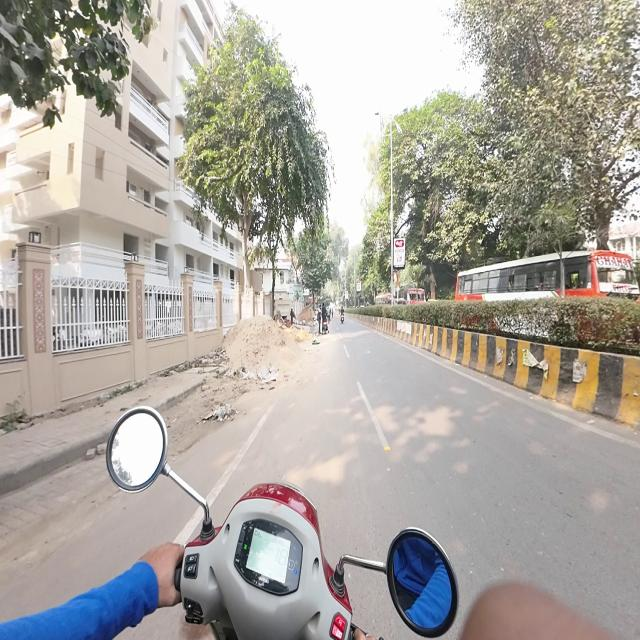Garbage: (241, 366, 282, 386), (205, 400, 237, 420)
